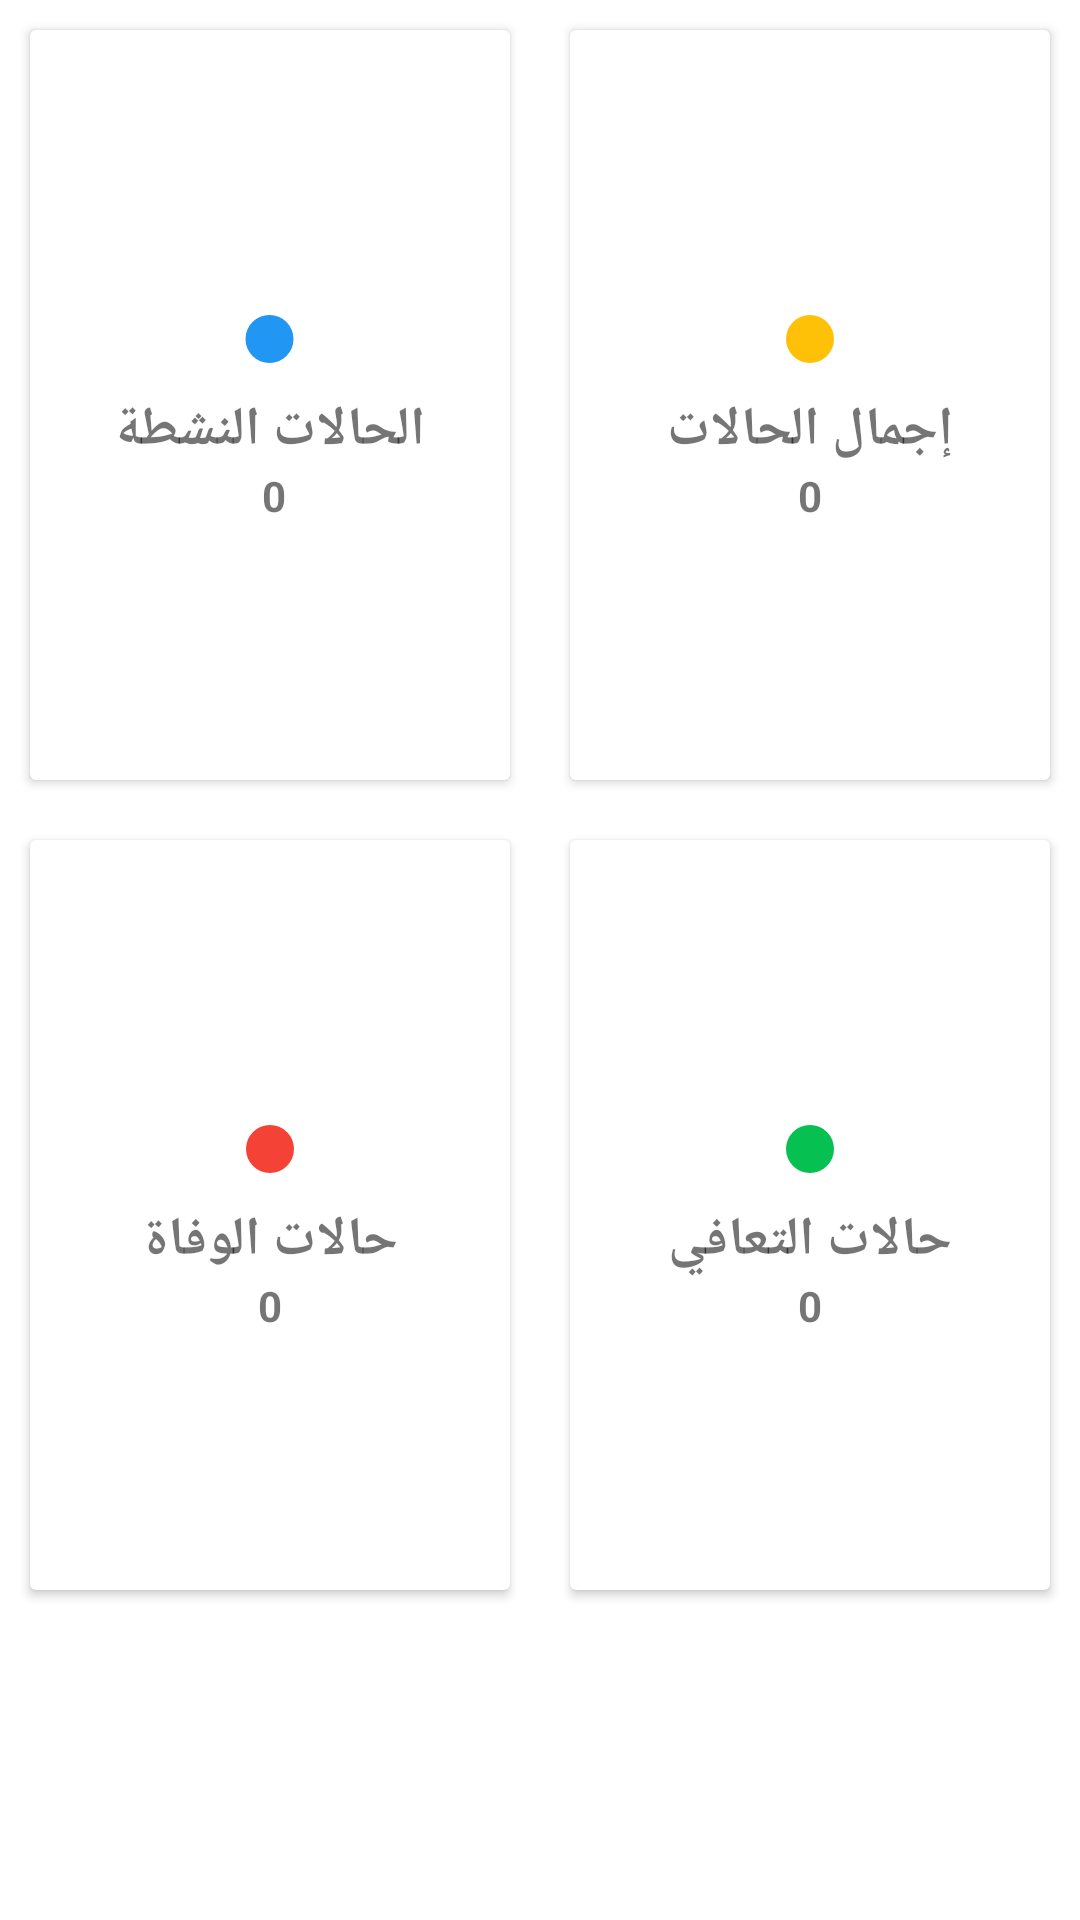

Icons on this 1080x1920 Android screen, each with its box as bbox=(x1, y1, x2, y2):
dot: bbox=(245, 315, 294, 363), bbox=(786, 315, 834, 363), bbox=(246, 1125, 294, 1173), bbox=(786, 1125, 834, 1173)
